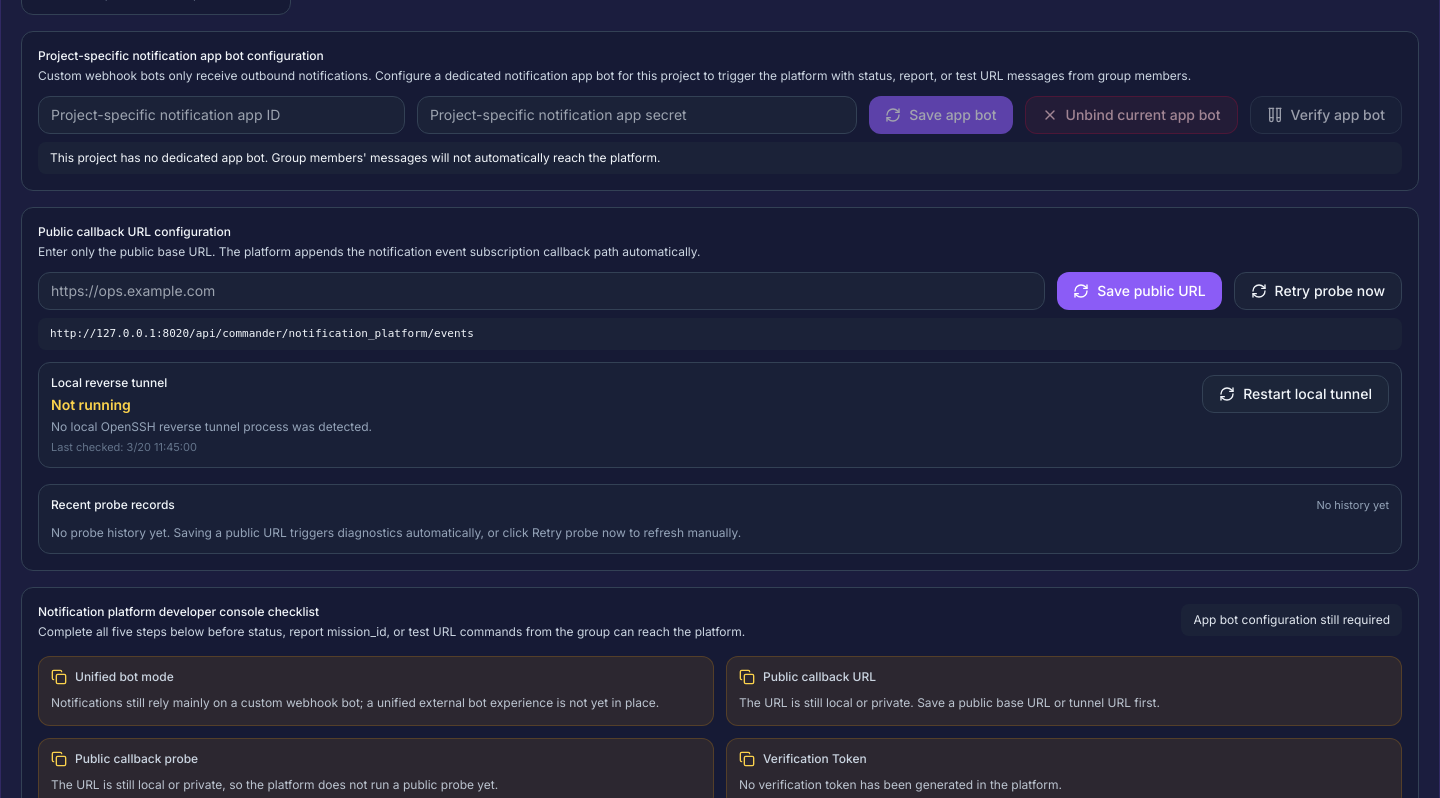
it: NotificationPage › should restart local tunnel from notification page
(page scrolled)
Check: the text "Local reverse tunnel" is shown, box x1=51 y1=375 x2=167 y2=390
Check: the text "Not running" is shown, box x1=51 y1=396 x2=131 y2=413
Click the button "Restart local tunnel": (1296, 394) x1=1202 y1=375 x2=1389 y2=413
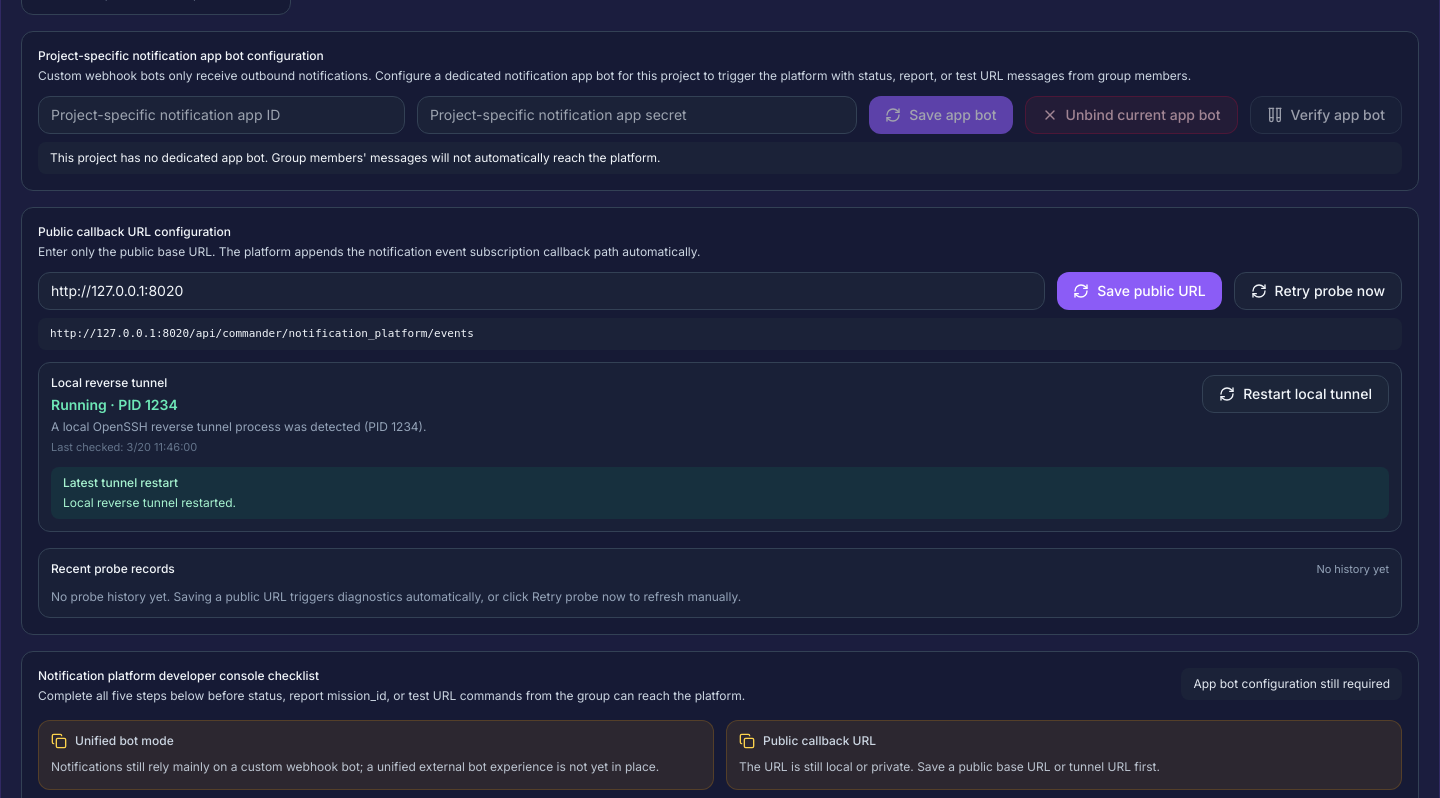
Check: the text "Latest tunnel restart" is shown, box x1=63 y1=475 x2=178 y2=490
Check: the text "Local reverse tunnel restarted." is shown, box x1=63 y1=495 x2=236 y2=510
Check: the text "Running · PID 1234" is shown, box x1=51 y1=396 x2=178 y2=413
